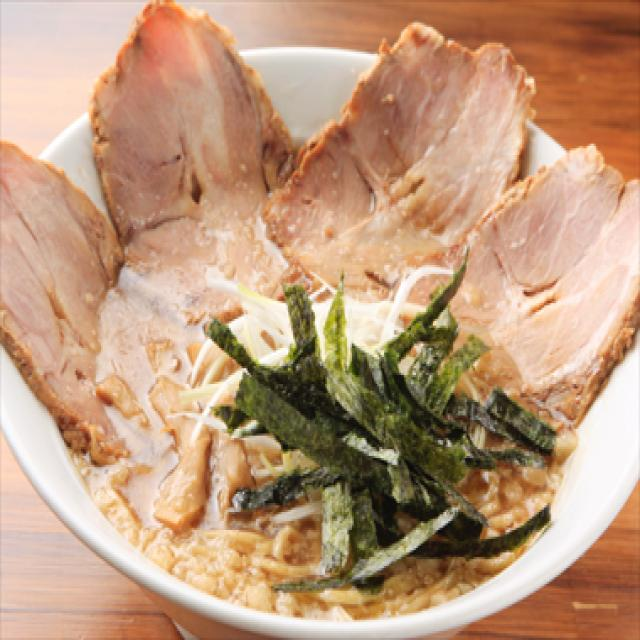面条主食: (18, 22, 630, 622)
